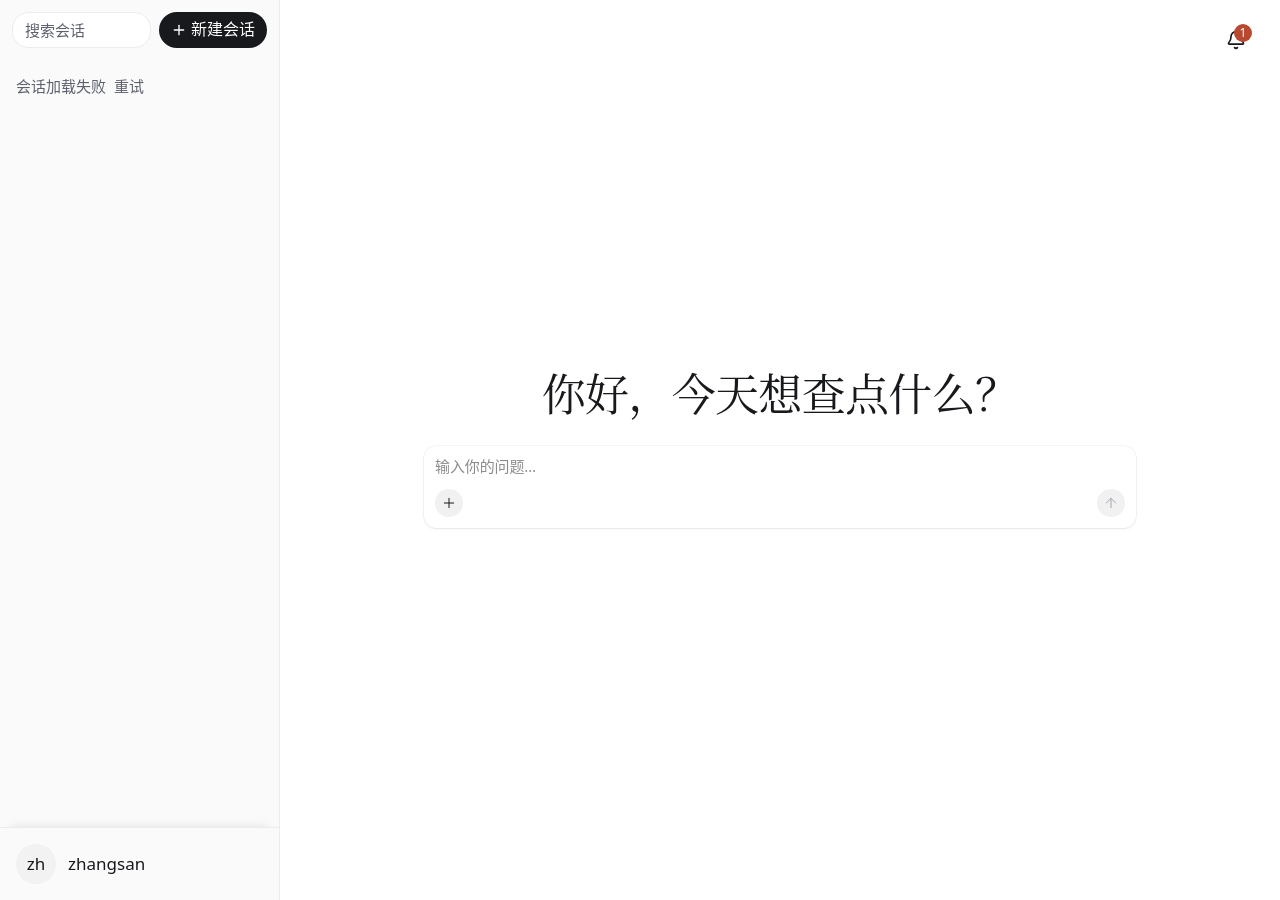
Test: 左栏选中态一致性：铃铛深链与深链恢复（A4） › 铃铛条目跳转到 /admin/spaces/public：左栏层名与恢复出的层一致
The width and height of the screenshot is (1280, 900).
Click the button named "提醒" at (1236, 40), box left=1216, top=20, right=1256, bottom=60
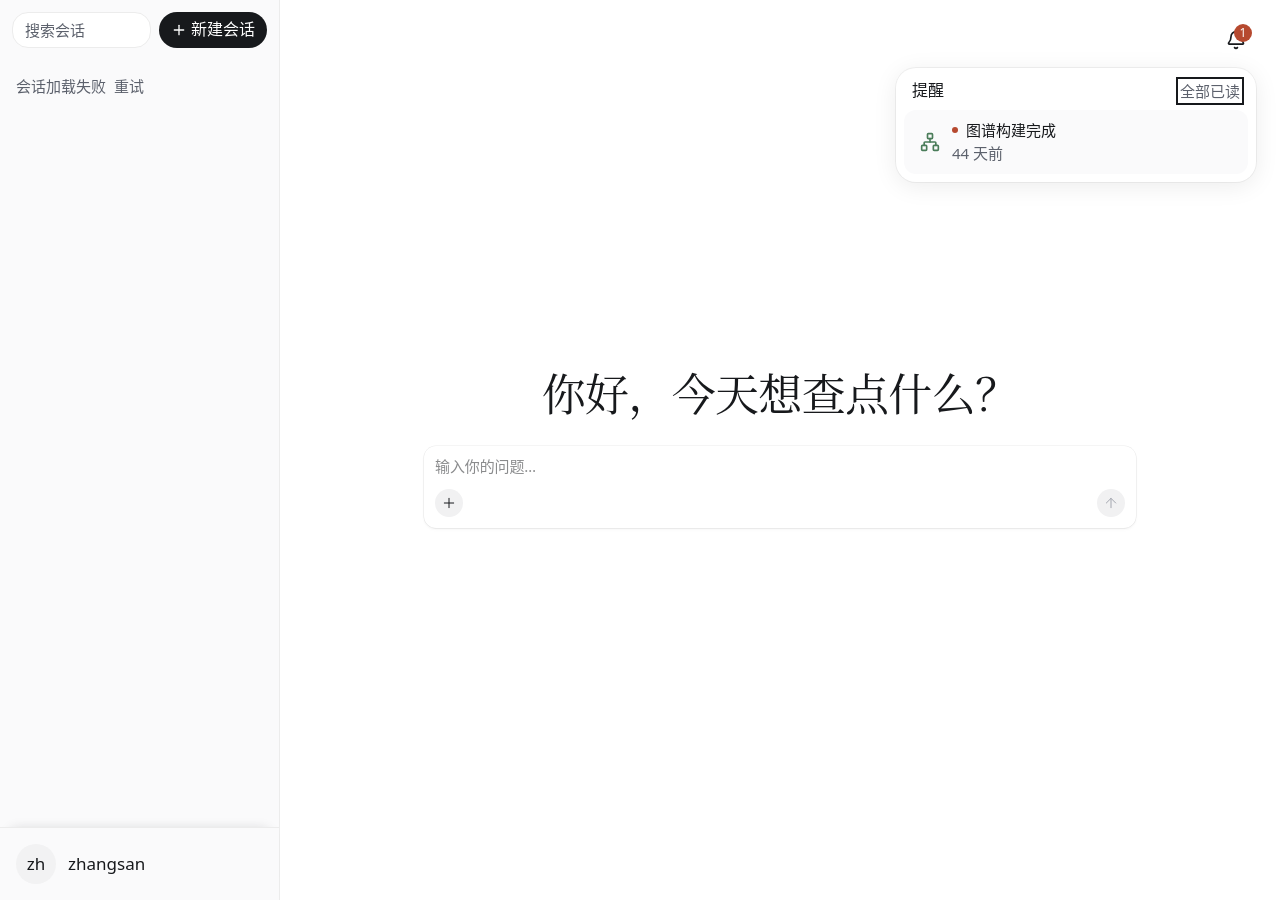
Click the button "图谱构建完成 44 天前" at (1011, 130), box left=904, top=110, right=1248, bottom=174
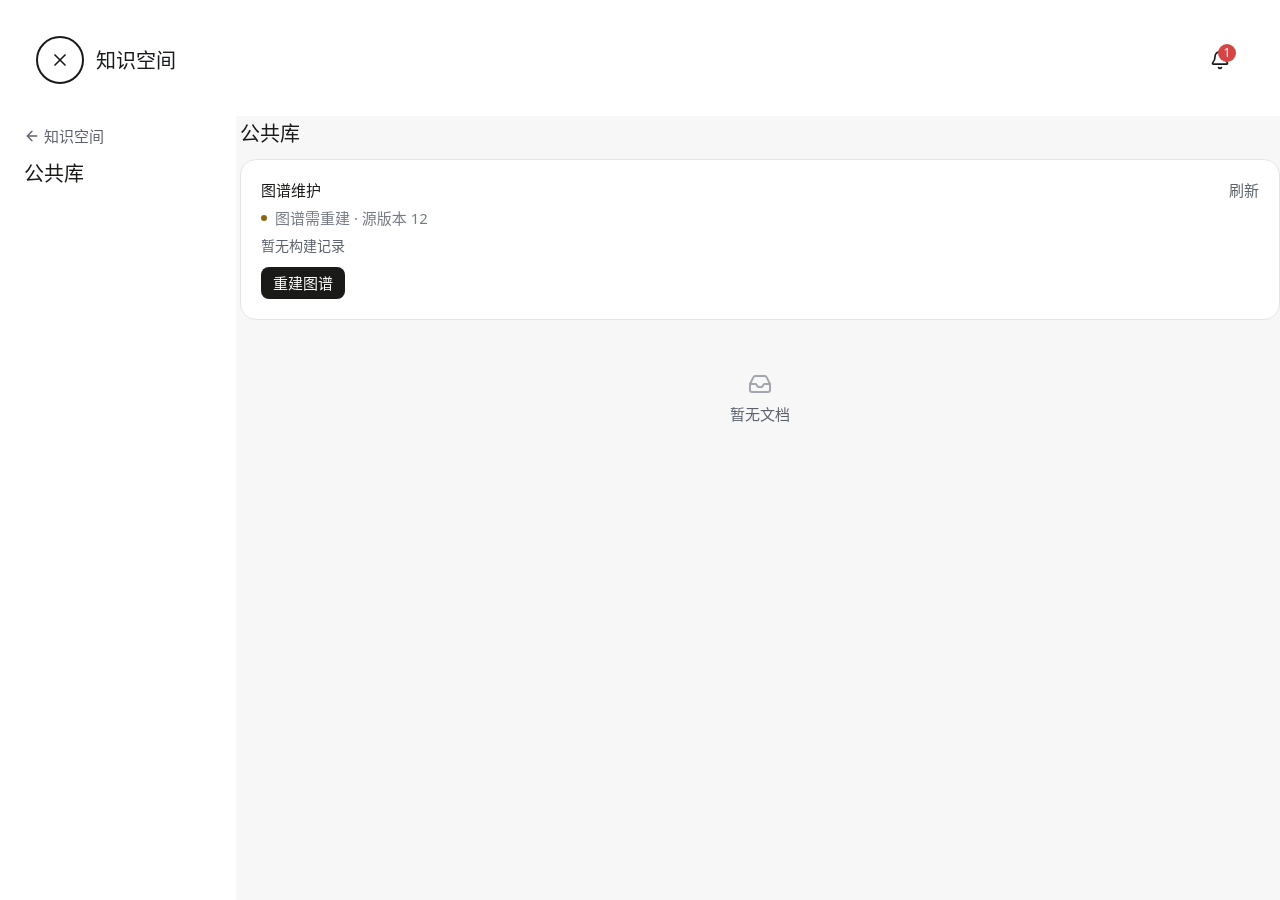
Check: the text "公共库" is shown, box left=24, top=160, right=84, bottom=187
Check: the heading "公共库" is shown, box left=240, top=120, right=300, bottom=147
